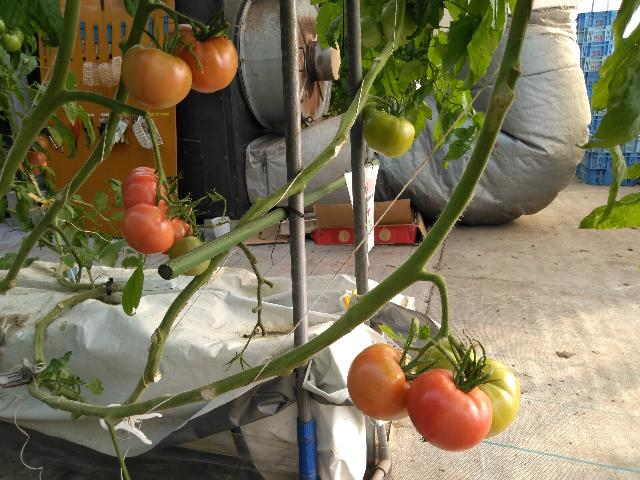b_fully_ripened: (406, 368, 494, 452), (121, 167, 170, 213)
b_green: (469, 358, 520, 440), (362, 112, 415, 159), (416, 340, 480, 378), (380, 1, 420, 48), (167, 236, 211, 276), (360, 15, 383, 49), (362, 102, 385, 121)
b_half_ripened: (347, 343, 419, 422), (164, 24, 238, 94), (121, 43, 191, 110), (121, 204, 174, 255), (163, 208, 199, 242)
